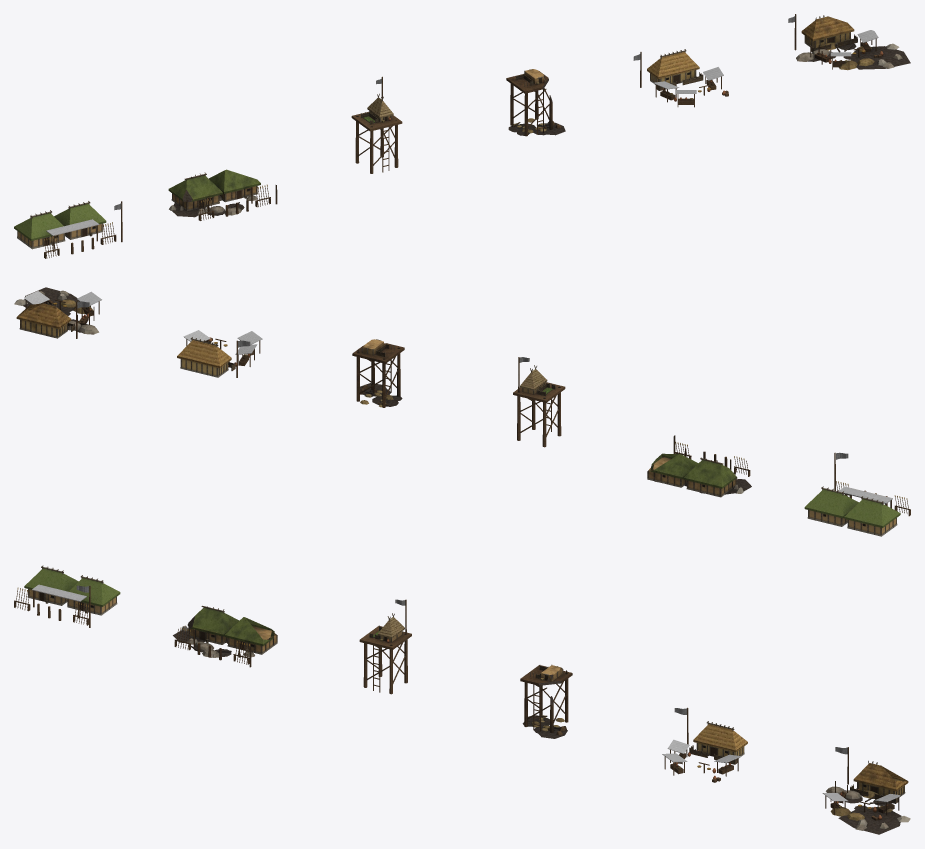
File: rts-bronze-europe.glb
3 views of the same model, one above another, from view 1: azimuth 30°, elevation 25°; view 2: azimuth 150°, elevation 25°; view 3: azimuth 330°, elevation 25° (orthographic). The views are drawn at different scales.
Parts seen in each view (by area): view 1: LOD0.005, LOD0.001, LOD0, LOD0.004, LOD0.003, LOD0.002; view 2: LOD0, LOD0.001, LOD0.005, LOD0.004, LOD0.003, LOD0.002; view 3: LOD0.005, LOD0.001, LOD0, LOD0.004, LOD0.003, LOD0.002.
Boxes of the visible parts, x1,y1,x2,y2 form: LOD0.005: (788, 14, 910, 70); LOD0.001: (168, 169, 277, 220); LOD0: (14, 201, 122, 258); LOD0.004: (633, 49, 728, 107); LOD0.003: (506, 69, 565, 136); LOD0.002: (351, 76, 402, 173); LOD0: (804, 452, 910, 536); LOD0.001: (647, 435, 751, 497); LOD0.005: (14, 287, 101, 338); LOD0.004: (177, 330, 262, 377); LOD0.003: (352, 339, 404, 407); LOD0.002: (513, 357, 565, 447); LOD0.005: (822, 747, 910, 834); LOD0.001: (173, 605, 277, 667); LOD0: (14, 565, 120, 627); LOD0.004: (662, 707, 747, 782); LOD0.003: (520, 664, 572, 738); LOD0.002: (359, 599, 411, 694).
Size of what is drawn, in the model's own units: 16.68 by 1.48 by 1.62.
Materials: 2 (2 with a texture image).
